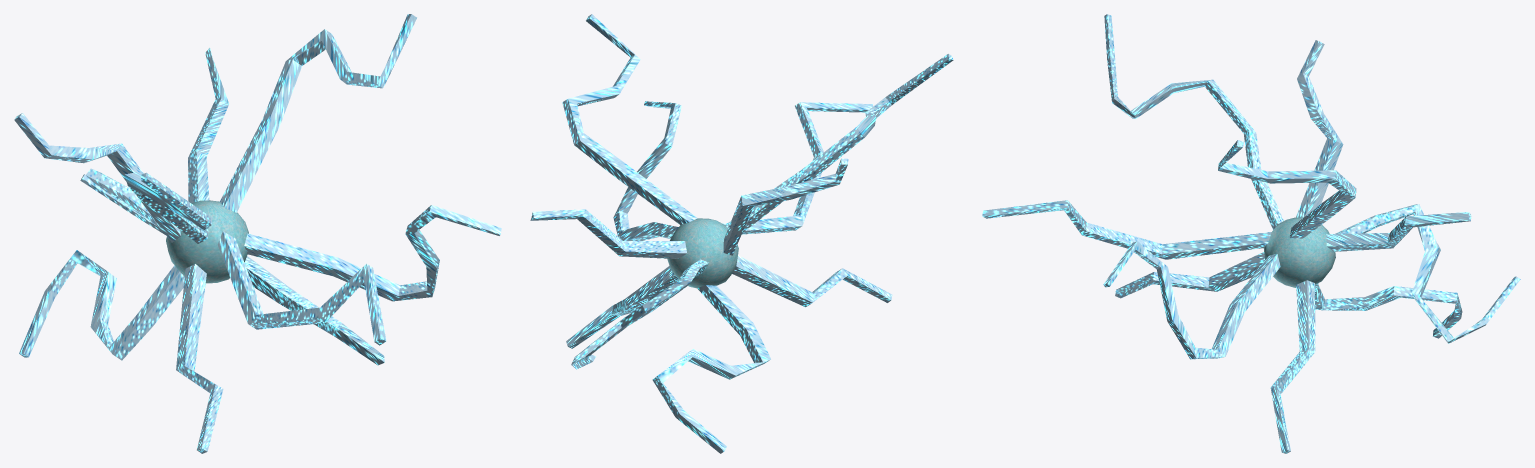
The model's file is Nerve_Textured.fbx.
3 renders of one model, left to right at view 1: azimuth 30°, elevation 25°; view 2: azimuth 150°, elevation 25°; view 3: azimuth 270°, elevation 25°, orthographic. The views are drawn at different scales.
Parts seen in each view (by area): view 1: pCube2; view 2: pCube2; view 3: pCube2.
Part boxes in pixels (bbox=[...]): pCube2: bbox=[14, 14, 501, 453]; pCube2: bbox=[530, 14, 953, 453]; pCube2: bbox=[982, 14, 1520, 453].
Size of the model in its own units: 11.6 by 11.33 by 17.49.
